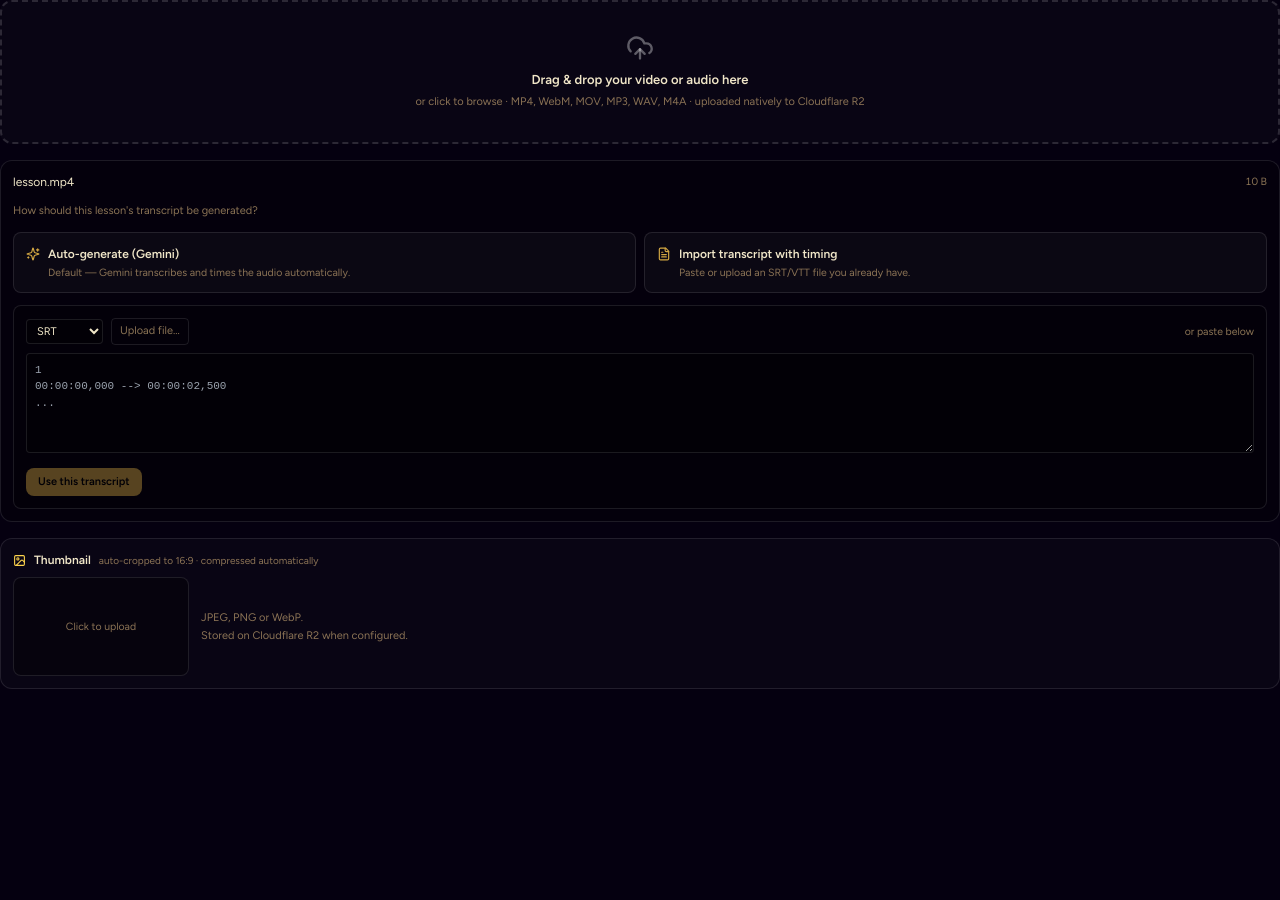
Test case: choosing Auto-generate calls runPipeline and completes the flow
The width and height of the screenshot is (1280, 900).
Earlier steps of the test are not shown.
Check: the element with test id "transcript-choice" is shown, box [13, 199, 1267, 509]
Click the button with test id "transcript-choice-auto" at (114, 254), box [13, 232, 636, 293]
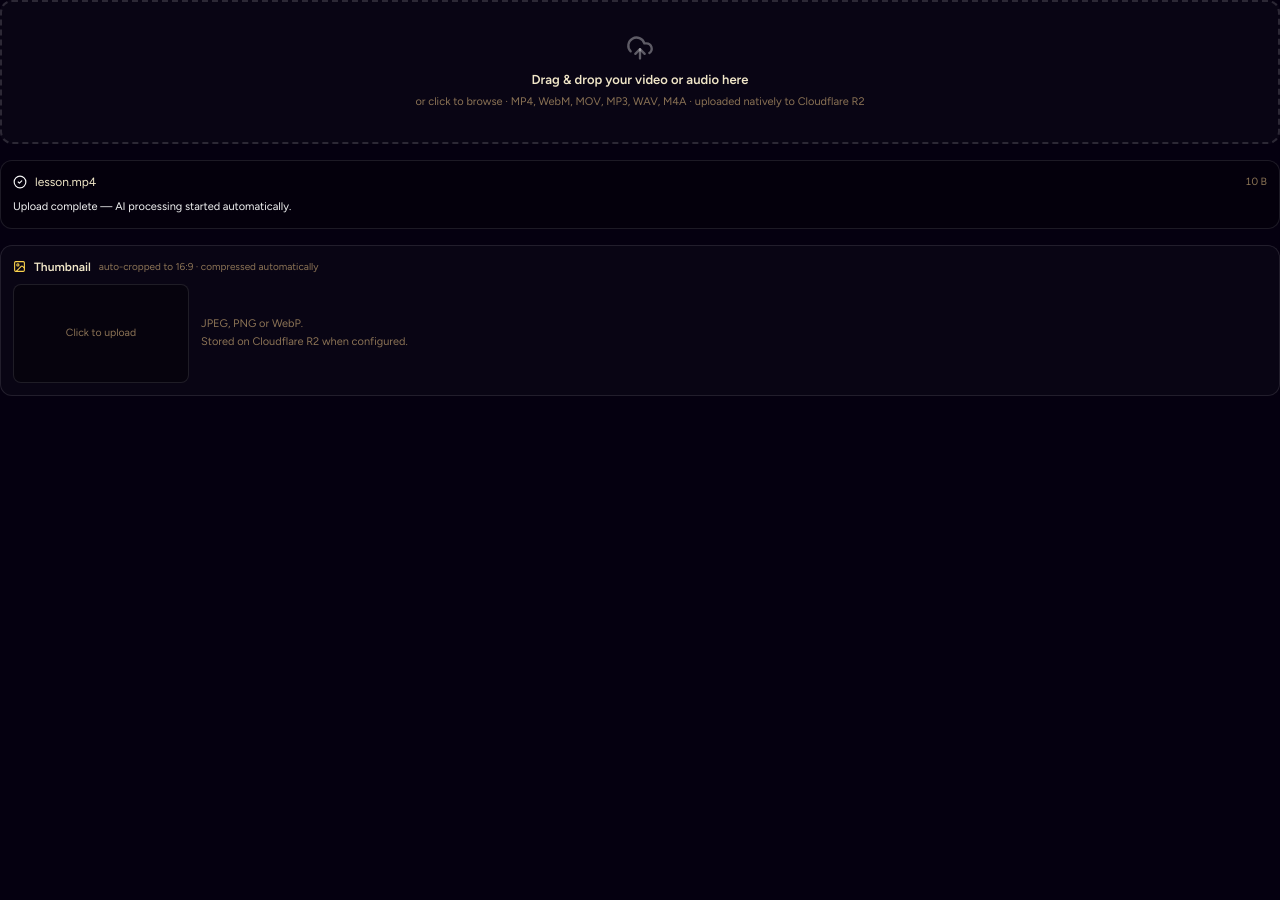
Check: the text "Upload complete — AI processing started automatically." is shown, box [13, 200, 291, 213]
